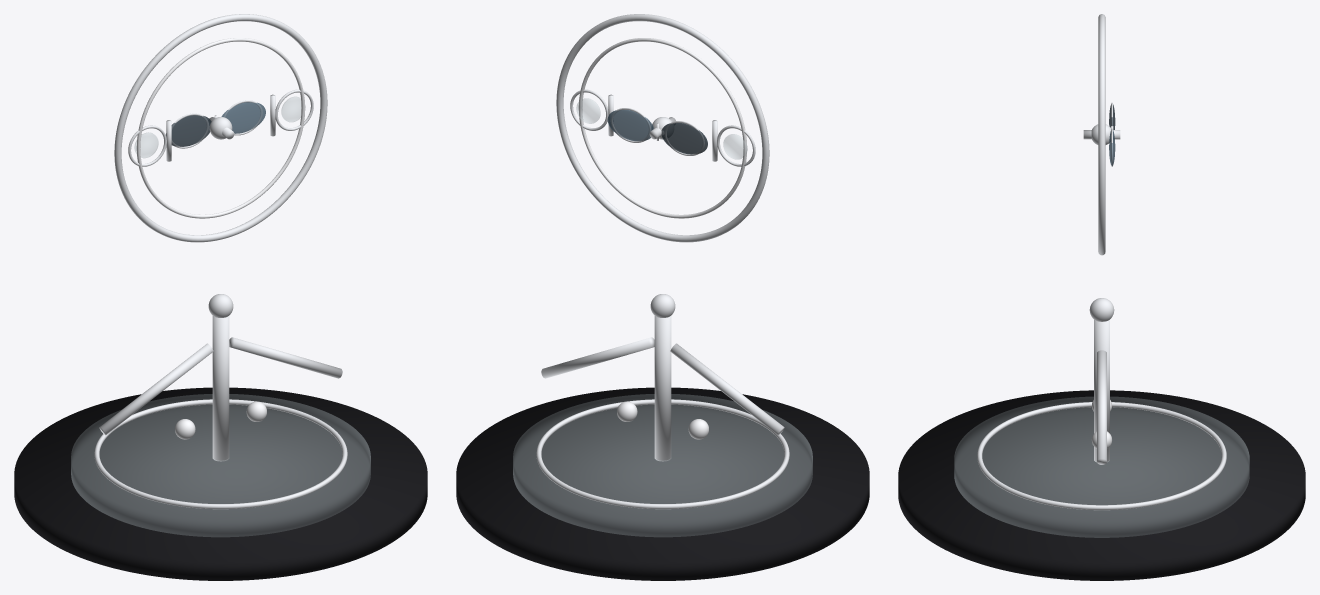
Rendered from 3D_Codex_Prompt 03_Blender.glb.
3 renders of one model, left to right at view 1: azimuth 30°, elevation 25°; view 2: azimuth 150°, elevation 25°; view 3: azimuth 270°, elevation 25°, orthographic.
Parts seen in each view (by area): view 1: Main_Black_Plinth, Transparent_Acrylic_Base, Outer_Display_Ring, Base_Chrome_Ring, Central_Chrome_Column, Inner_Display_Ring, Left_Mechanical_Arm, Right_Mechanical_Arm, Display_Left_Lens, Display_Right_Lens; view 2: Main_Black_Plinth, Transparent_Acrylic_Base, Outer_Display_Ring, Base_Chrome_Ring, Central_Chrome_Column, Inner_Display_Ring, Left_Mechanical_Arm, Right_Mechanical_Arm, Display_Left_Lens, Display_Right_Lens; view 3: Main_Black_Plinth, Transparent_Acrylic_Base, Base_Chrome_Ring, Outer_Display_Ring, Right_Mechanical_Arm, Central_Chrome_Column.
Part boxes in pixels (left/top/right/bottom): Main_Black_Plinth: left=14, top=387, right=427, bottom=580; Transparent_Acrylic_Base: left=71, top=394, right=370, bottom=536; Outer_Display_Ring: left=114, top=14, right=327, bottom=242; Base_Chrome_Ring: left=94, top=399, right=347, bottom=509; Central_Chrome_Column: left=212, top=316, right=229, bottom=461; Inner_Display_Ring: left=136, top=38, right=305, bottom=218; Left_Mechanical_Arm: left=99, top=343, right=213, bottom=435; Right_Mechanical_Arm: left=229, top=337, right=342, bottom=378; Display_Left_Lens: left=166, top=115, right=211, bottom=146; Display_Right_Lens: left=221, top=102, right=265, bottom=133; Main_Black_Plinth: left=456, top=387, right=869, bottom=580; Transparent_Acrylic_Base: left=513, top=394, right=812, bottom=536; Outer_Display_Ring: left=556, top=14, right=769, bottom=242; Base_Chrome_Ring: left=536, top=399, right=789, bottom=509; Central_Chrome_Column: left=654, top=316, right=671, bottom=461; Inner_Display_Ring: left=578, top=38, right=747, bottom=218; Left_Mechanical_Arm: left=670, top=343, right=784, bottom=435; Right_Mechanical_Arm: left=541, top=337, right=654, bottom=378; Display_Left_Lens: left=661, top=123, right=707, bottom=154; Display_Right_Lens: left=607, top=110, right=653, bottom=141; Main_Black_Plinth: left=898, top=390, right=1305, bottom=580; Transparent_Acrylic_Base: left=954, top=397, right=1249, bottom=537; Base_Chrome_Ring: left=977, top=402, right=1226, bottom=510; Outer_Display_Ring: left=1098, top=14, right=1105, bottom=255; Right_Mechanical_Arm: left=1097, top=350, right=1106, bottom=464; Central_Chrome_Column: left=1094, top=320, right=1109, bottom=462.
Size of what is drawn, in the model's own units: 4 by 5.09 by 4.
